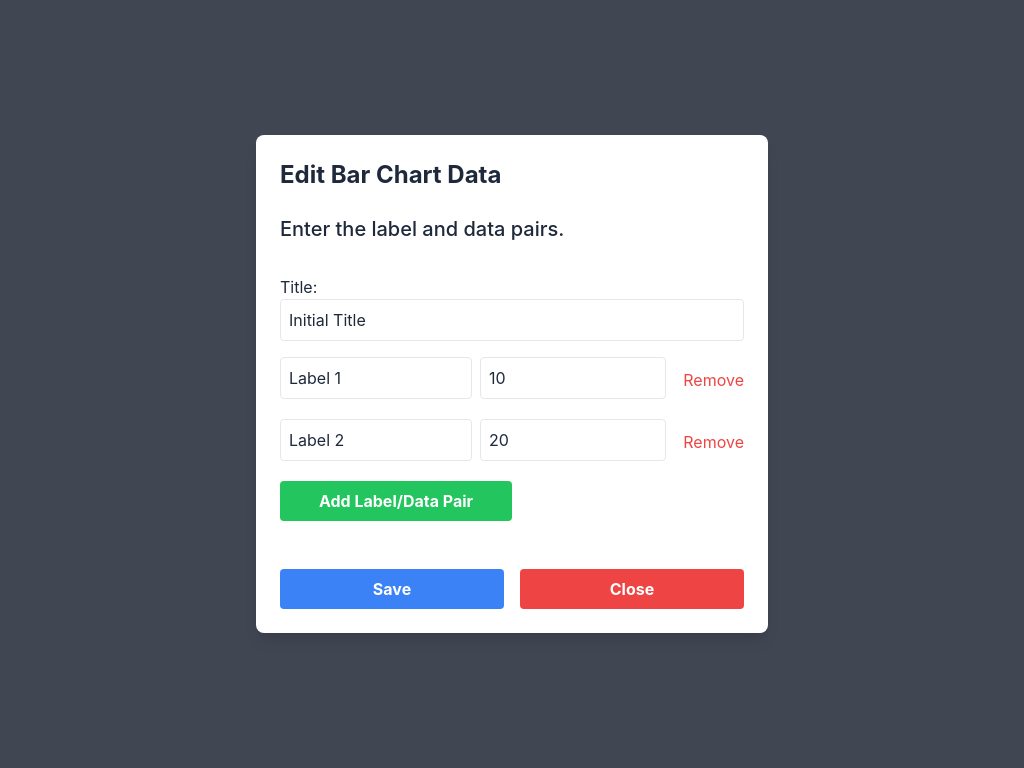
Test: BarChartPopup Component › allows adding a new label/data pair
Click the button "Add Label/Data Pair" at point(396, 501), box [280,481,512,521]
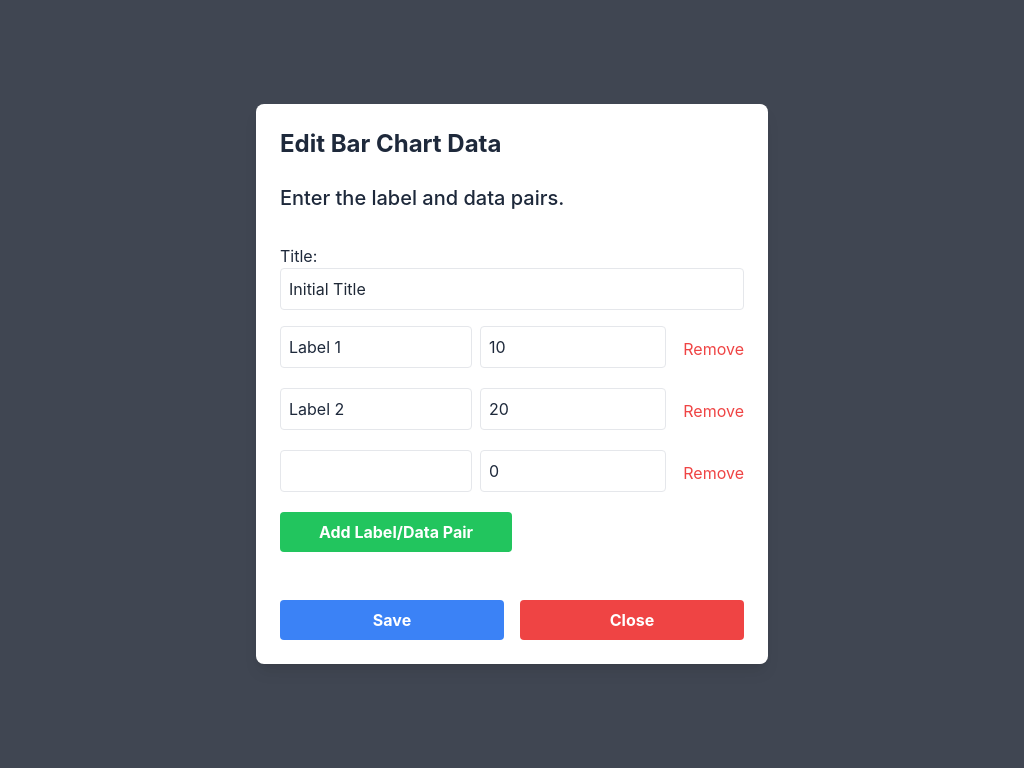
Expected: the 4th field is shown, [280,450,472,492]
Expected: the 3rd number field showing "0" is shown, [480,450,666,492]
